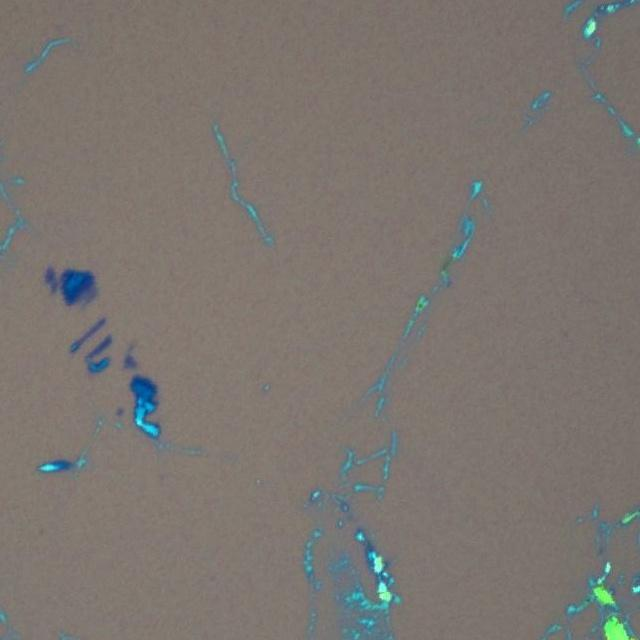monolayer-eWW4: (80, 283, 99, 303), (125, 362, 136, 369)
